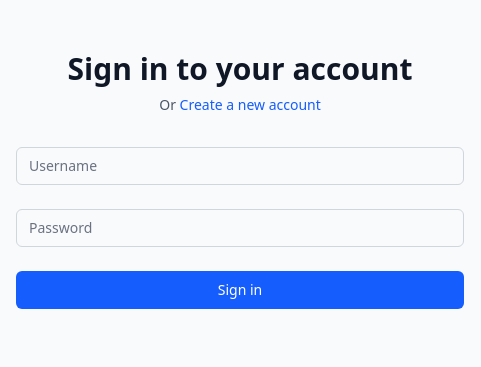
Scenario: Login Component › displays error message on login failure
The width and height of the screenshot is (481, 367).
Type "testuser" into the field labelled "Username" at coordinates (240, 166), box x1=16 y1=147 x2=464 y2=185
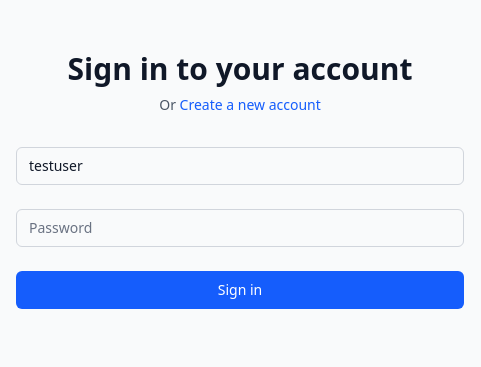
Type "wrongpassword" into the field labelled "Password" at coordinates (240, 228), box x1=16 y1=209 x2=464 y2=247
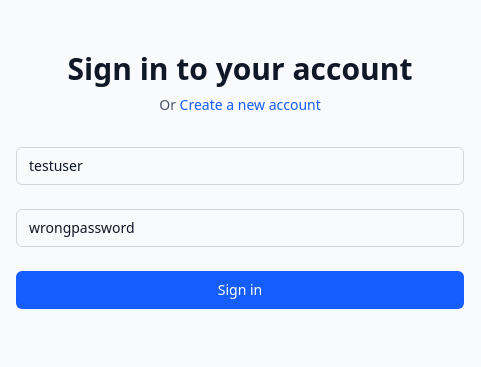
Click the button "Sign in" at coordinates (240, 290), box x1=16 y1=271 x2=464 y2=309
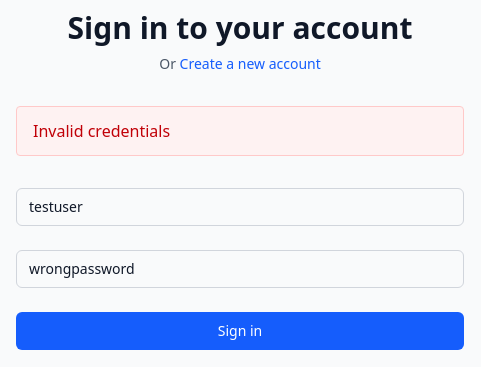
expect the text "Invalid credentials" is shown: met, box x1=16 y1=106 x2=464 y2=156
